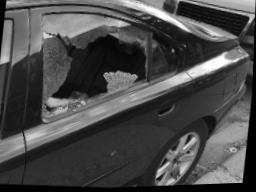Door: (25, 7, 183, 136)
